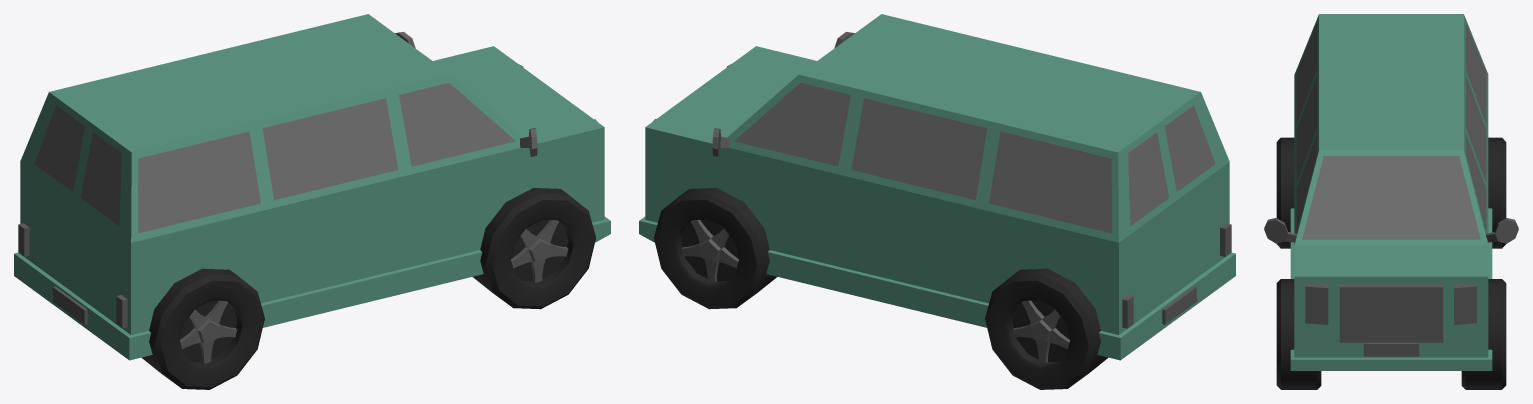
File: Car01.fbx
3 renders of one model, left to right at view 1: azimuth 30°, elevation 25°; view 2: azimuth 150°, elevation 25°; view 3: azimuth 270°, elevation 25°, orthographic. The views are drawn at different scales.
Visible parts, largest first — view 1: Car_01; view 2: Car_01; view 3: Car_01.
Boxes of the visible parts, left/top/right/bottom form: Car_01: left=14, top=14, right=610, bottom=389; Car_01: left=639, top=14, right=1235, bottom=389; Car_01: left=1264, top=14, right=1518, bottom=389.
Size of the model in its own units: 16.1 by 7.38 by 8.28.
